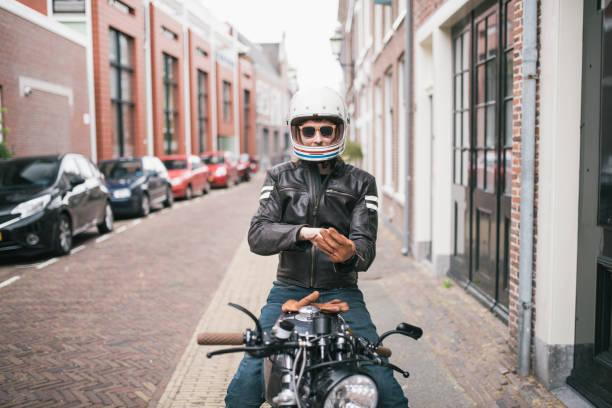helmet: (283, 71, 357, 178)
